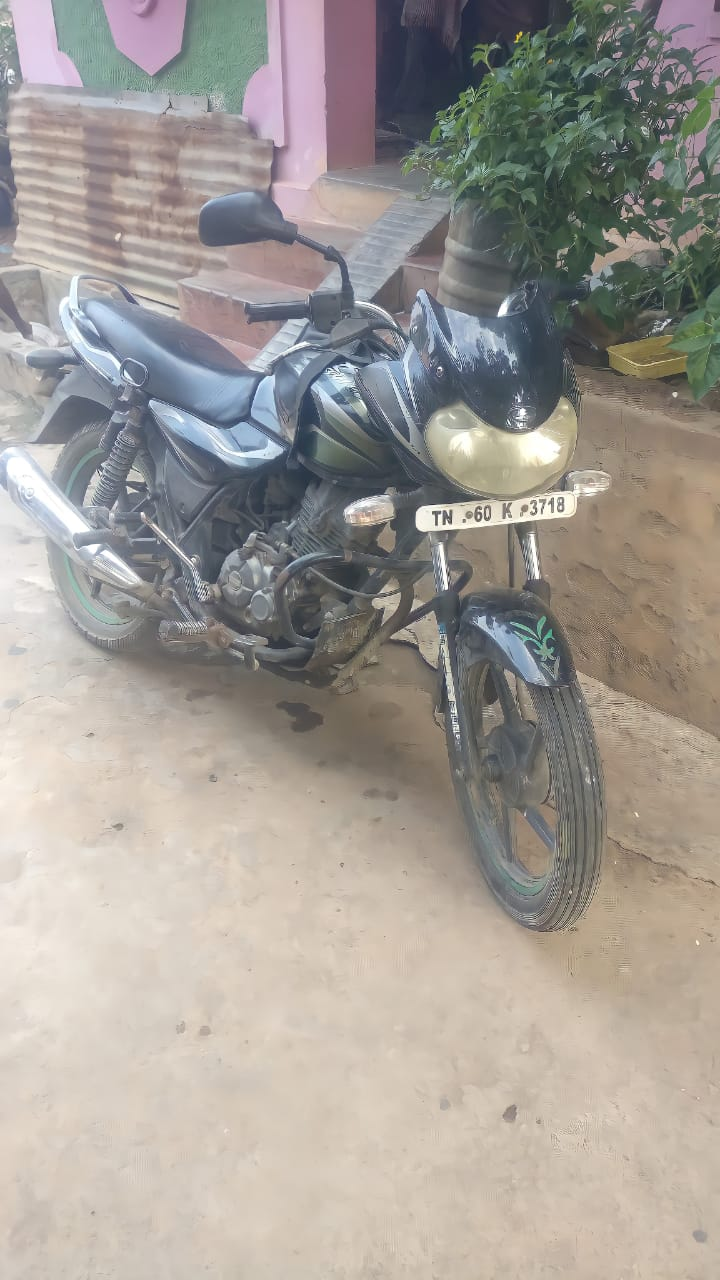bike: (8, 197, 671, 985)
numberplate: (410, 481, 601, 541)
